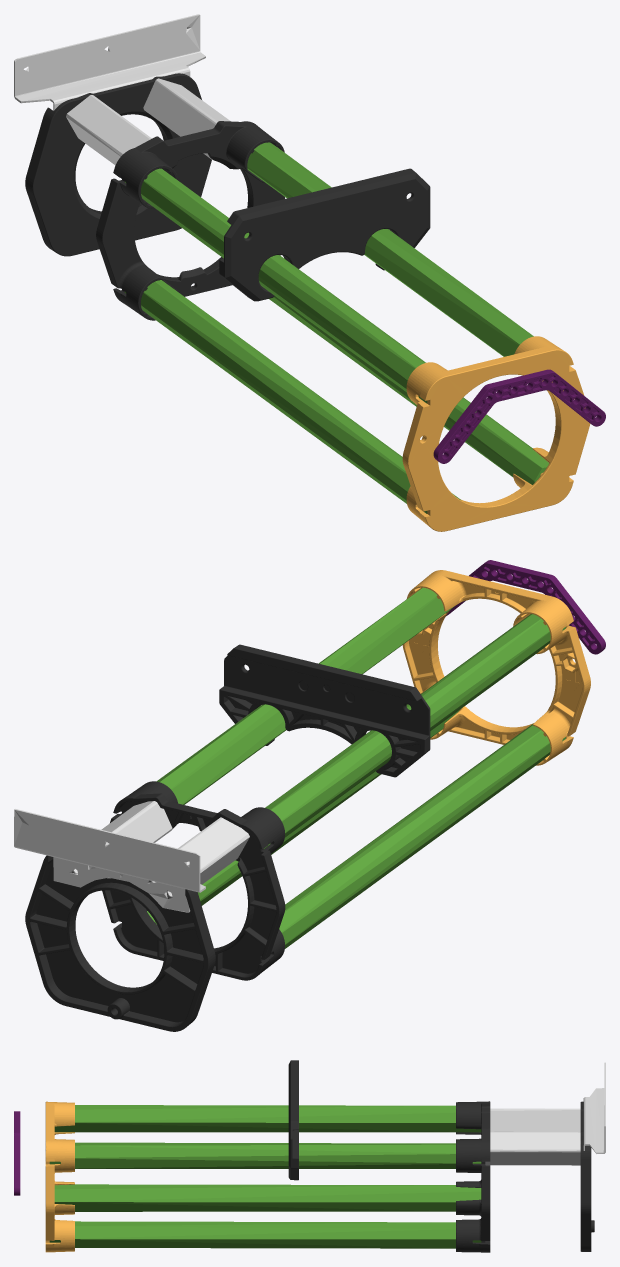
The model's file is flower-blue-wall.obj.
3 renders of one model, top to bottom at view 1: azimuth 30°, elevation 25°; view 2: azimuth 150°, elevation 25°; view 3: azimuth 270°, elevation 25°, orthographic. The views are drawn at different scales.
Visible parts, largest first — view 1: flower-blue-wall-303030, flower-blue-wall-5FA73D, flower-blue-wall-E6E6E6, flower-blue-wall-FFBA52, flower-blue-wall-641C65; view 2: flower-blue-wall-303030, flower-blue-wall-5FA73D, flower-blue-wall-E6E6E6, flower-blue-wall-FFBA52, flower-blue-wall-641C65; view 3: flower-blue-wall-5FA73D, flower-blue-wall-303030, flower-blue-wall-E6E6E6, flower-blue-wall-FFBA52, flower-blue-wall-641C65.
Boxes of the visible parts, bbox=[...] form: flower-blue-wall-303030: bbox=[25, 73, 430, 320]; flower-blue-wall-5FA73D: bbox=[124, 142, 549, 513]; flower-blue-wall-E6E6E6: bbox=[14, 14, 230, 165]; flower-blue-wall-FFBA52: bbox=[402, 336, 590, 531]; flower-blue-wall-641C65: bbox=[433, 369, 605, 463]; flower-blue-wall-303030: bbox=[25, 644, 430, 1031]; flower-blue-wall-5FA73D: bbox=[147, 587, 565, 948]; flower-blue-wall-E6E6E6: bbox=[14, 801, 249, 912]; flower-blue-wall-FFBA52: bbox=[402, 570, 590, 765]; flower-blue-wall-641C65: bbox=[446, 560, 605, 654]; flower-blue-wall-5FA73D: bbox=[49, 1105, 481, 1248]; flower-blue-wall-303030: bbox=[288, 1060, 594, 1252]; flower-blue-wall-E6E6E6: bbox=[485, 1062, 605, 1165]; flower-blue-wall-FFBA52: bbox=[45, 1101, 74, 1252]; flower-blue-wall-641C65: bbox=[14, 1111, 20, 1195].
Bounding box in the file's own units: 6.67 × 6.16 × 23.3.
